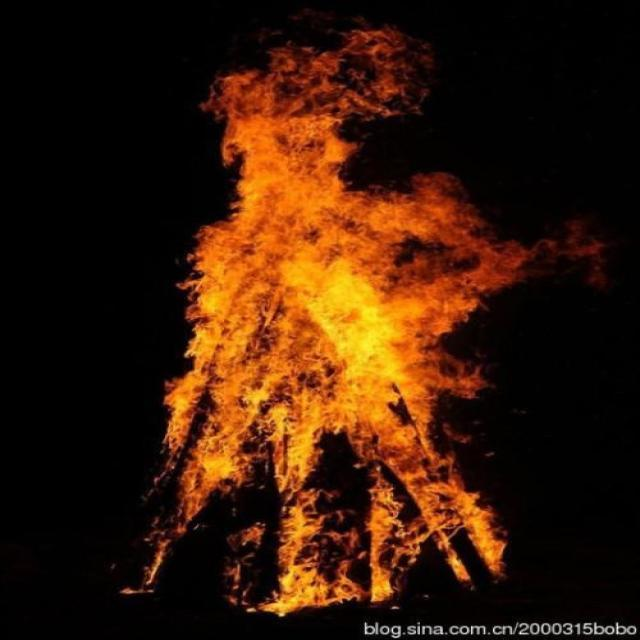Fire: (115, 27, 604, 616)
